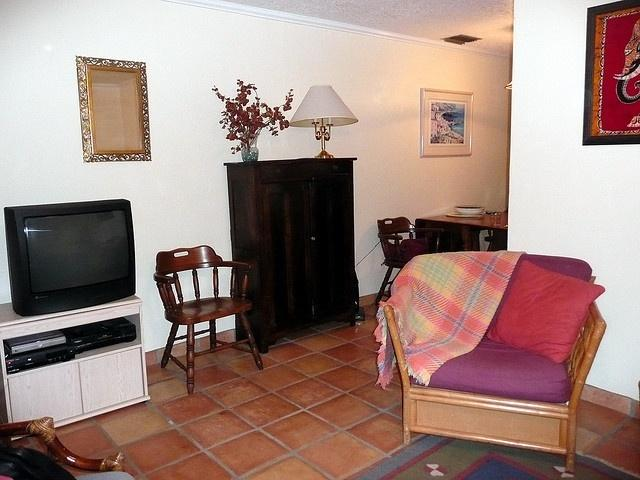AIO PC-Monitor-TV: (14, 199, 135, 314)
Kursi: (153, 244, 263, 397)
Lemari: (254, 157, 356, 350)
